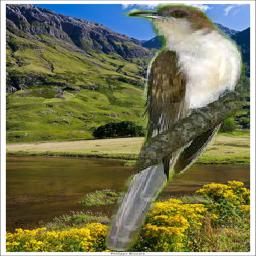Cuckoo: (103, 3, 245, 251)
